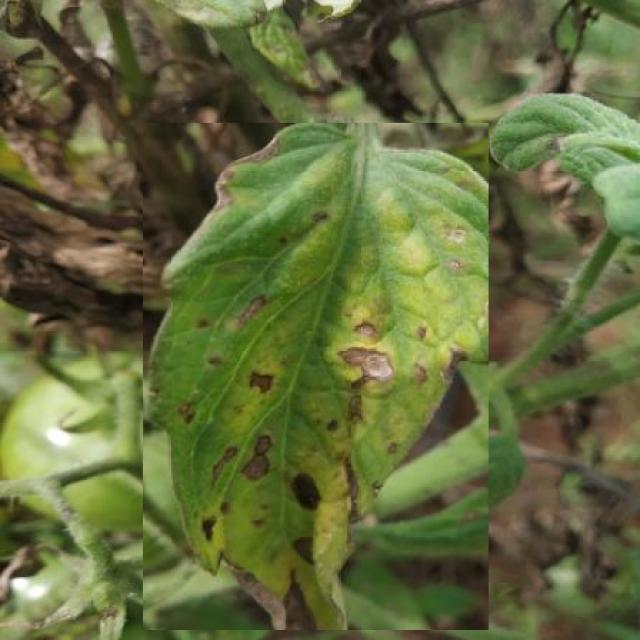Early Blight: (143, 123, 488, 630)
